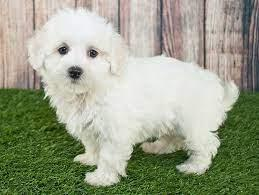Dog: (26, 7, 129, 107)
